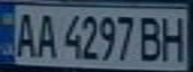2: (78, 11, 100, 61)
4: (60, 10, 81, 60)
7: (115, 11, 139, 62)
9: (97, 11, 118, 62)
A: (9, 9, 39, 58), (33, 9, 57, 58)
B: (136, 12, 166, 62)
H: (157, 12, 190, 62)
